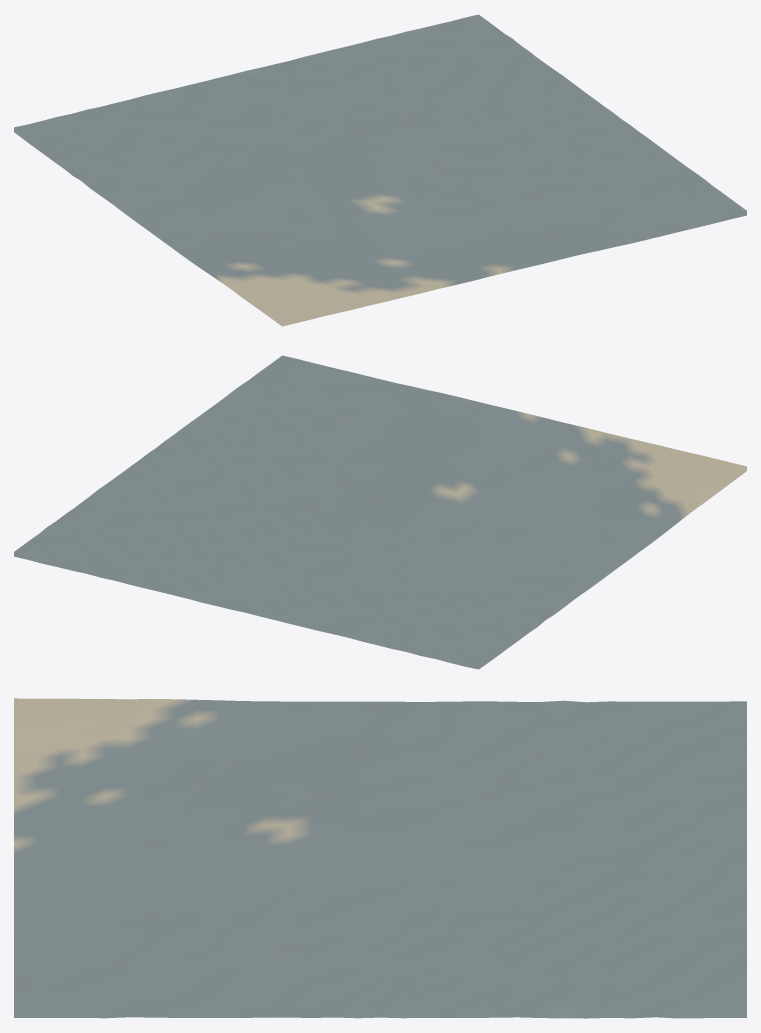
3 views of the same model, one above another, from view 1: azimuth 30°, elevation 25°; view 2: azimuth 150°, elevation 25°; view 3: azimuth 270°, elevation 25° (orthographic). The views are drawn at different scales.
Parts seen in each view (by area): view 1: prim0; view 2: prim0; view 3: prim0.
Boxes of the visible parts, x1,y1,x2,y2 form: prim0: (14,14,746,326); prim0: (14,355,746,669); prim0: (14,698,746,1018).
Bounding box in the file's own units: 512 × 7.94 × 512.
